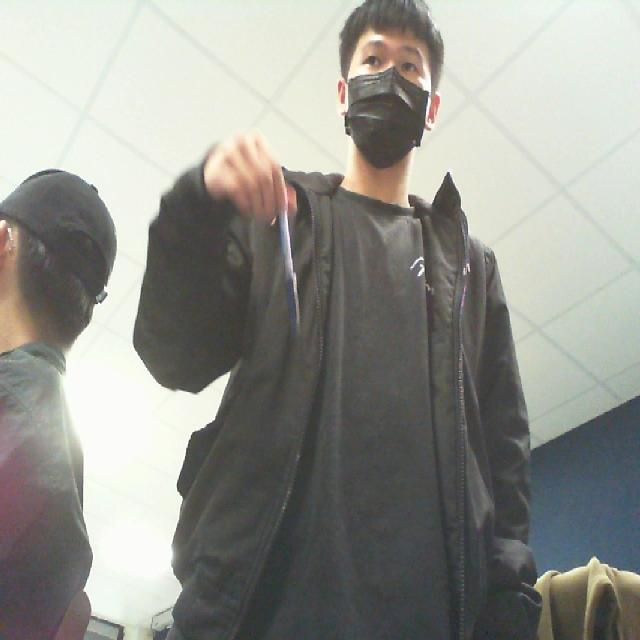Pen: (258, 189, 309, 361)
